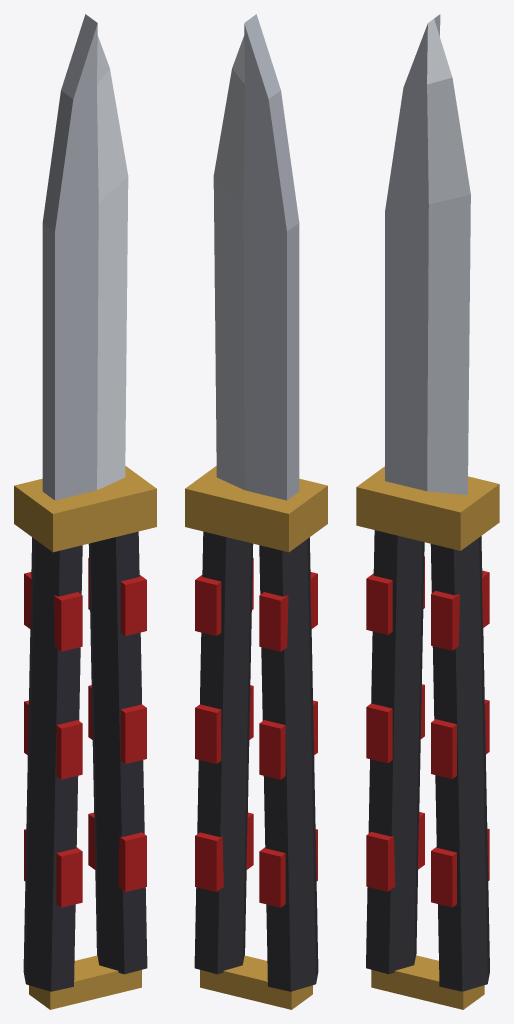
File: butterfly.obj
The picture shows the model from 3 angles, left to right: view 1: azimuth 30°, elevation 25°; view 2: azimuth 150°, elevation 25°; view 3: azimuth 330°, elevation 25°; orthographic projection.
Parts seen in each view (by area): view 1: butterfly; view 2: butterfly; view 3: butterfly.
Part boxes in pixels (<box>): butterfly: <box>14,14,156,1009</box>; butterfly: <box>185,14,327,1009</box>; butterfly: <box>356,14,499,1009</box>.
Bounding box in the file's own units: 0.0721 × 0.5615 × 0.0407.
